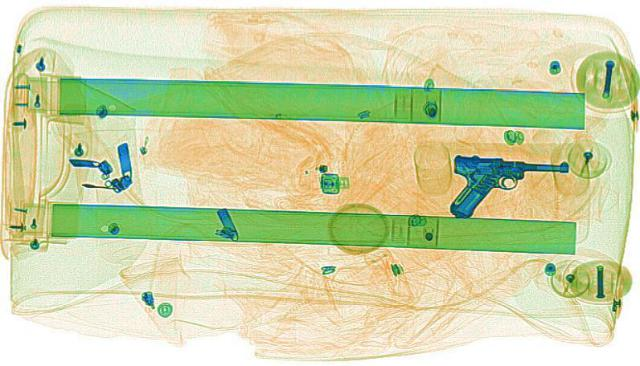Gun: (447, 152, 573, 218)
